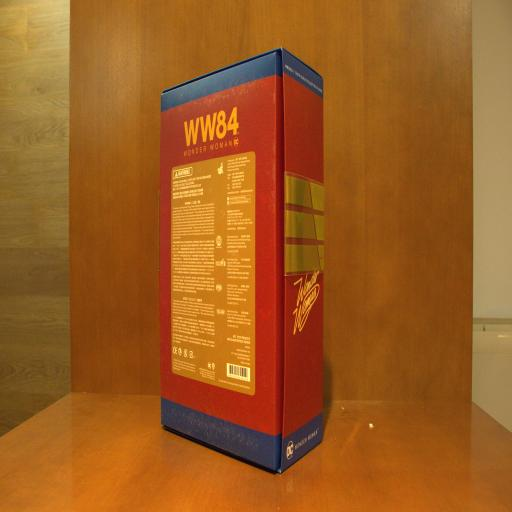WonderWoman: (158, 47, 326, 473)
